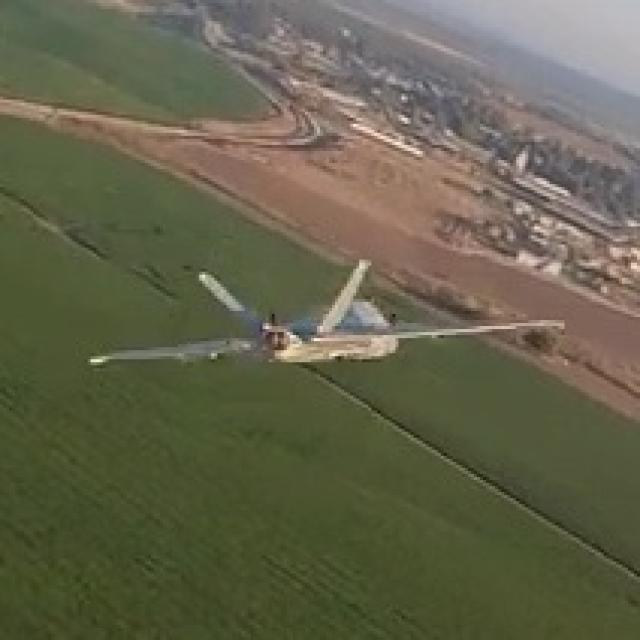iha: (94, 292, 546, 348)
